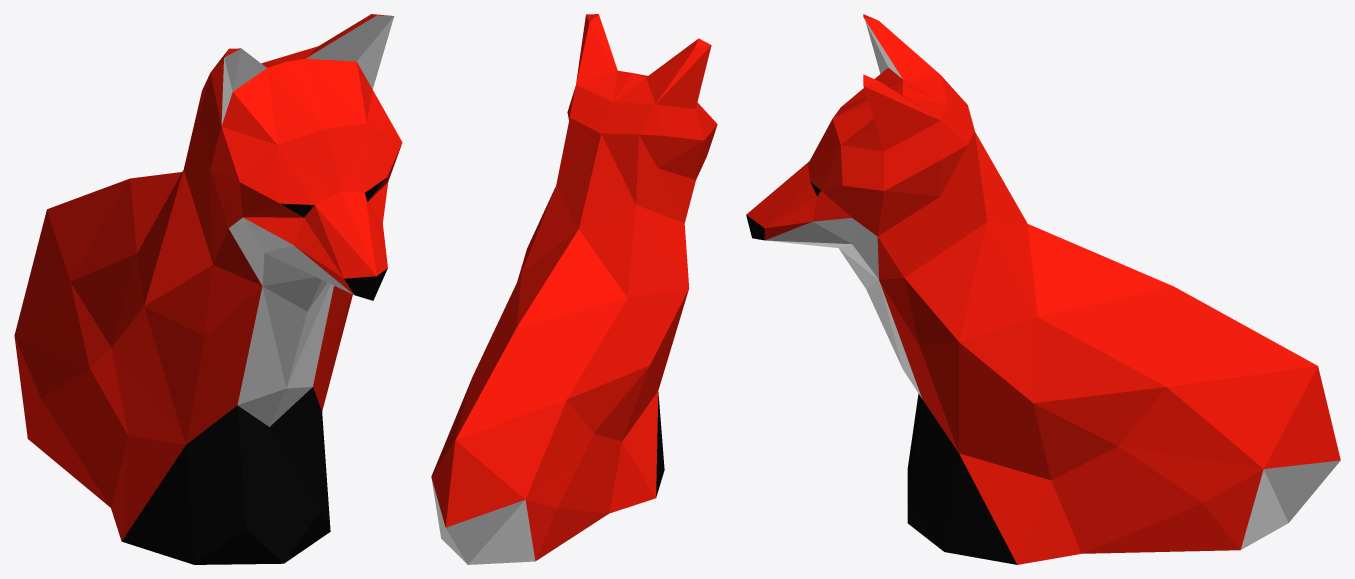
The model's file is fox.obj.
3 views of the same model, side by side, from view 1: azimuth 30°, elevation 25°; view 2: azimuth 150°, elevation 25°; view 3: azimuth 270°, elevation 25° (orthographic). The views are drawn at different scales.
Visible parts, largest first — view 1: fox; view 2: fox; view 3: fox.
Part boxes in pixels (x1,y1,x2,y2): fox: (14, 14, 402, 564); fox: (431, 14, 717, 564); fox: (746, 14, 1340, 564).
Size of the model in its own units: 44.8 by 107 by 121.
